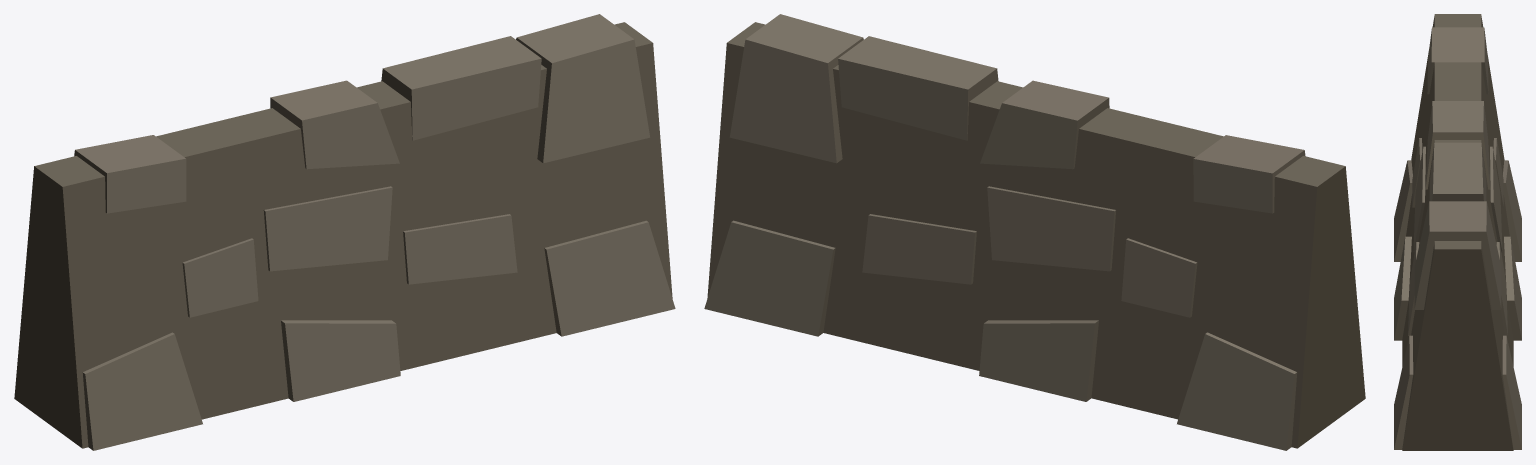
The model's file is Fence_Stone.gltf.
The picture shows the model from 3 angles, left to right: view 1: azimuth 30°, elevation 25°; view 2: azimuth 150°, elevation 25°; view 3: azimuth 270°, elevation 25°; orthographic projection. The views are drawn at different scales.
Parts seen in each view (by area): view 1: SF_Prop_Fence_Stone_01; view 2: SF_Prop_Fence_Stone_01; view 3: SF_Prop_Fence_Stone_01.
Boxes of the visible parts, x1=… form: SF_Prop_Fence_Stone_01: x1=14, y1=14, x2=675, y2=450; SF_Prop_Fence_Stone_01: x1=704, y1=14, x2=1365, y2=450; SF_Prop_Fence_Stone_01: x1=1394, y1=14, x2=1521, y2=450.
Size of the model in its own units: 0.05 by 0.021 by 0.0115.
Materials: 1 (1 with a texture image).
